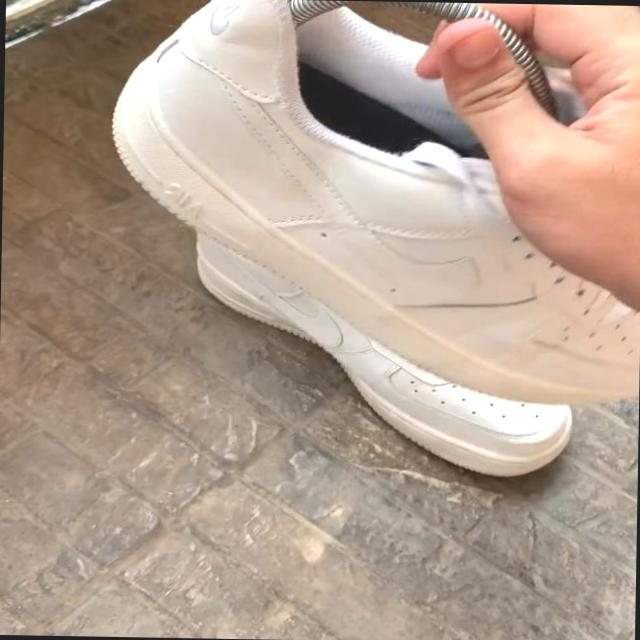nike_original_airforce: (103, 0, 640, 401)
